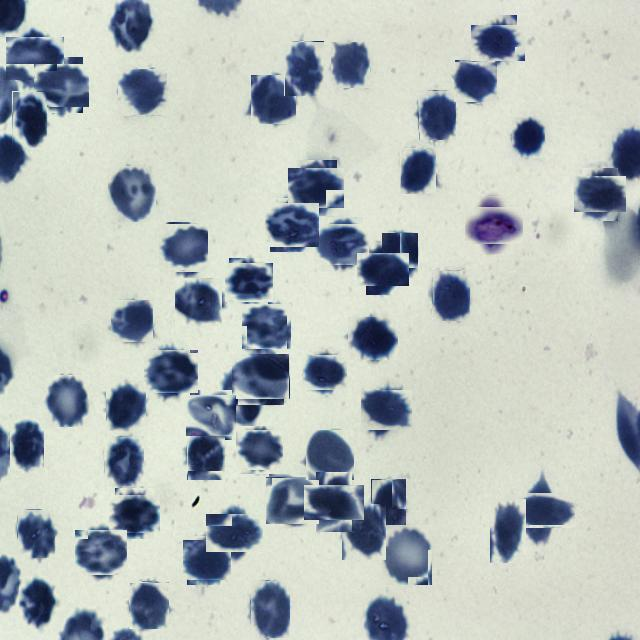difficult: (470, 201, 518, 249)
red blood cell: (381, 524, 432, 585), (107, 165, 156, 222), (514, 484, 566, 536), (235, 350, 287, 402), (9, 33, 60, 84), (268, 476, 318, 526), (342, 504, 386, 560), (147, 346, 196, 396), (268, 200, 317, 250), (36, 61, 86, 110), (222, 368, 264, 426), (76, 528, 126, 576), (306, 430, 354, 480), (250, 580, 290, 638), (210, 509, 258, 557), (292, 164, 340, 212), (318, 220, 366, 268), (159, 224, 207, 272), (118, 68, 166, 116), (490, 499, 526, 563), (310, 478, 358, 526), (46, 375, 90, 427), (243, 302, 290, 350), (175, 278, 222, 326), (347, 316, 398, 360), (251, 75, 296, 124), (284, 41, 324, 96), (363, 387, 409, 433), (476, 20, 522, 66), (188, 392, 234, 438), (112, 491, 157, 536), (104, 436, 144, 486), (106, 381, 146, 431), (12, 91, 47, 148), (578, 172, 622, 217), (20, 577, 58, 629), (432, 270, 470, 321), (185, 538, 229, 582), (237, 428, 281, 472), (129, 582, 169, 630), (418, 90, 456, 140), (187, 430, 225, 480), (227, 260, 270, 304), (371, 479, 406, 533), (17, 509, 55, 558), (111, 300, 154, 342), (331, 42, 370, 88), (454, 61, 496, 103), (362, 248, 404, 290), (381, 232, 418, 278), (10, 419, 44, 469), (400, 148, 436, 194), (304, 352, 344, 392), (511, 116, 545, 158)
